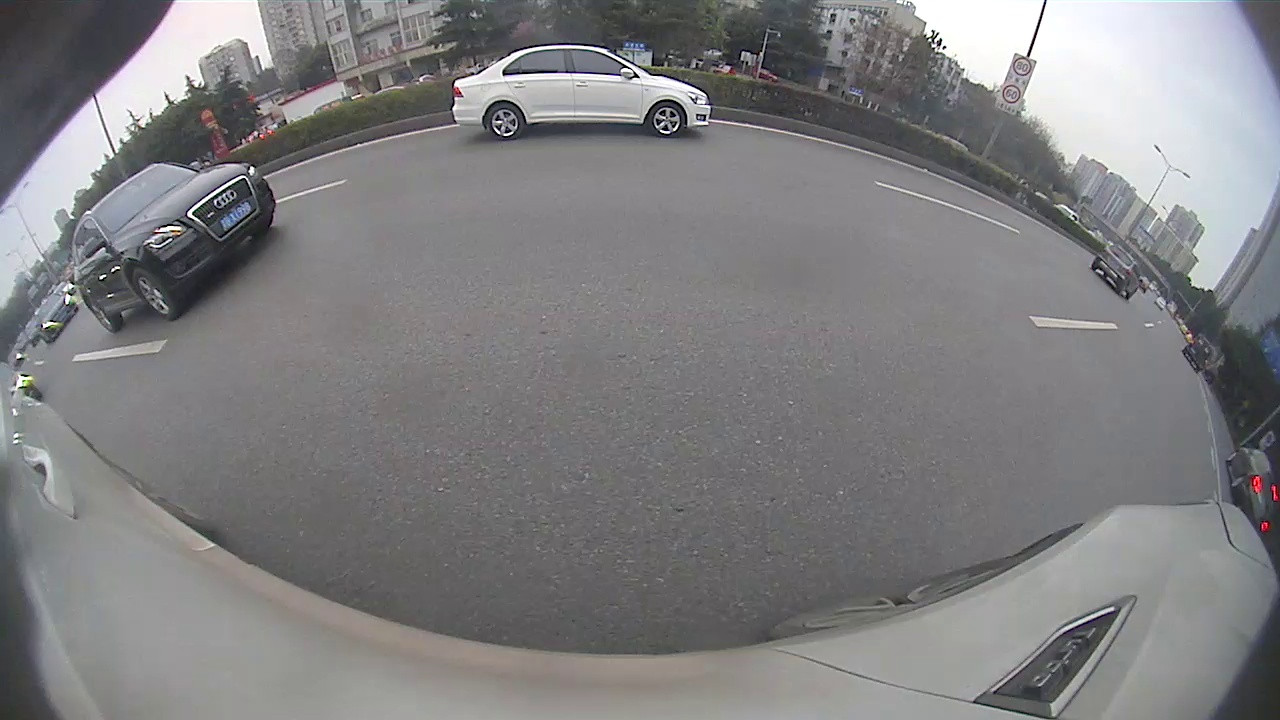car: (73, 163, 274, 333), (452, 44, 710, 140), (1225, 445, 1276, 531), (1093, 243, 1141, 299), (36, 292, 77, 341), (1183, 333, 1210, 371)
front: (132, 267, 181, 322), (645, 100, 685, 139)
rear: (484, 101, 525, 140), (82, 295, 124, 332)
